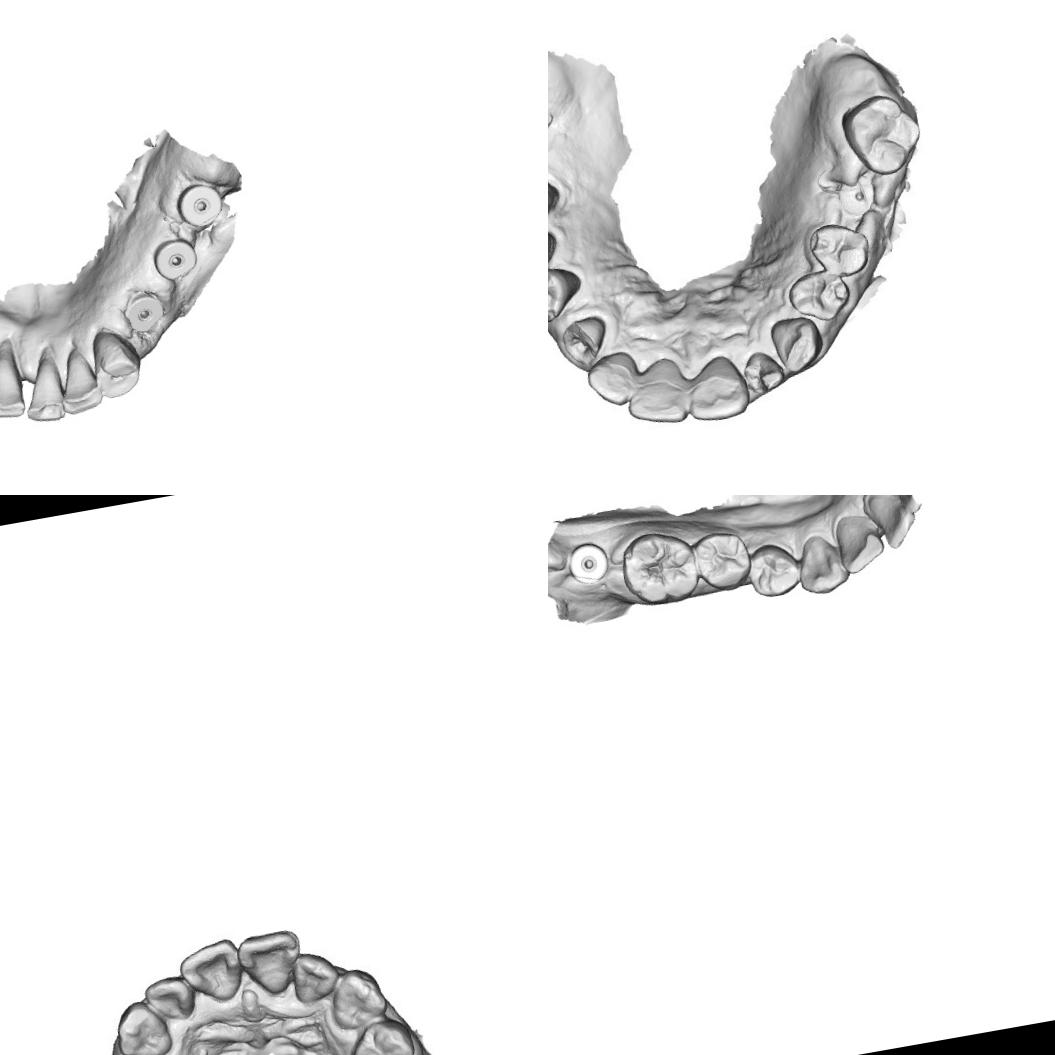canine: (84, 322, 144, 402), (790, 525, 854, 598), (762, 311, 828, 377), (328, 968, 390, 1030), (554, 310, 615, 373), (110, 998, 173, 1055)
implant: (172, 174, 225, 232), (148, 232, 201, 286), (117, 284, 171, 336), (563, 536, 613, 590), (833, 171, 883, 217)
incisor: (621, 351, 693, 433), (678, 350, 754, 427), (238, 928, 308, 1000), (175, 936, 245, 1006), (580, 348, 644, 412), (830, 508, 888, 577), (857, 495, 922, 554), (53, 350, 108, 418), (18, 358, 68, 426), (142, 973, 195, 1025), (0, 347, 31, 423), (292, 953, 337, 1004)
molar: (613, 524, 705, 611), (838, 86, 928, 174)
premolar: (690, 523, 756, 597), (806, 217, 874, 282), (740, 534, 805, 602), (786, 268, 854, 324), (339, 1013, 418, 1055), (548, 261, 587, 328), (548, 223, 564, 287)
